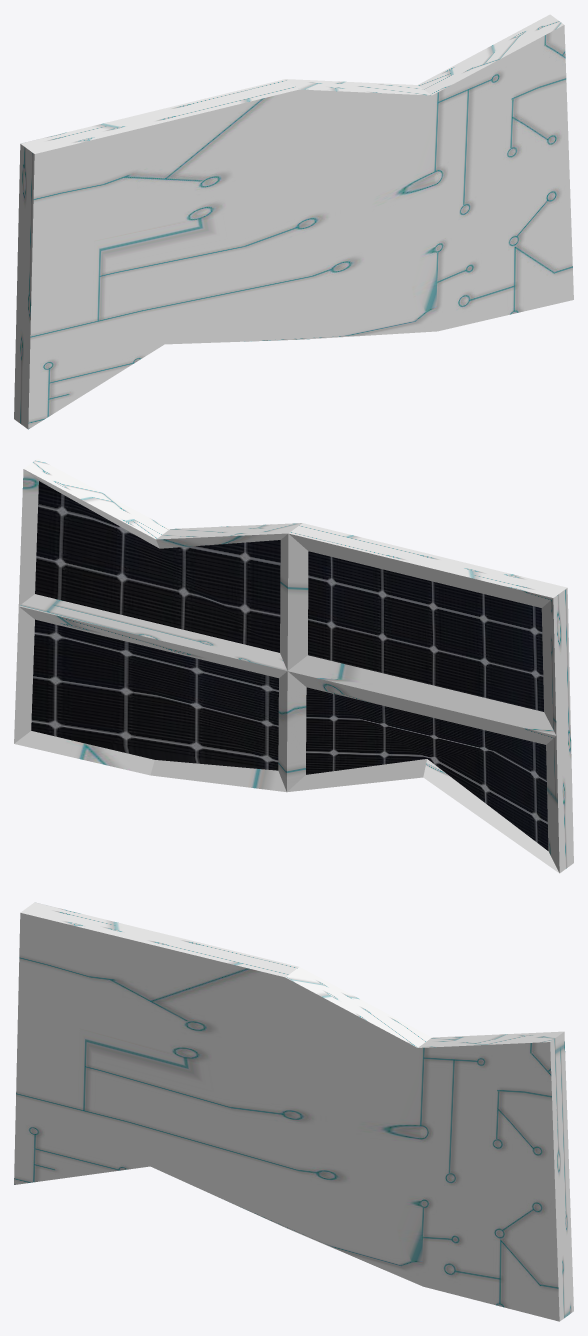
The model's file is SpaceTrash1.fbx.
3 views of the same model, one above another, from view 1: azimuth 30°, elevation 25°; view 2: azimuth 150°, elevation 25°; view 3: azimuth 330°, elevation 25° (orthographic).
Parts seen in each view (by area): view 1: Cube; view 2: Cube; view 3: Cube.
Boxes of the visible parts, x1,y1,x2,y2 form: Cube: (14, 14, 573, 429); Cube: (14, 458, 573, 873); Cube: (14, 902, 573, 1321).
Bounding box in the file's own units: 993 × 482 × 45.17.
